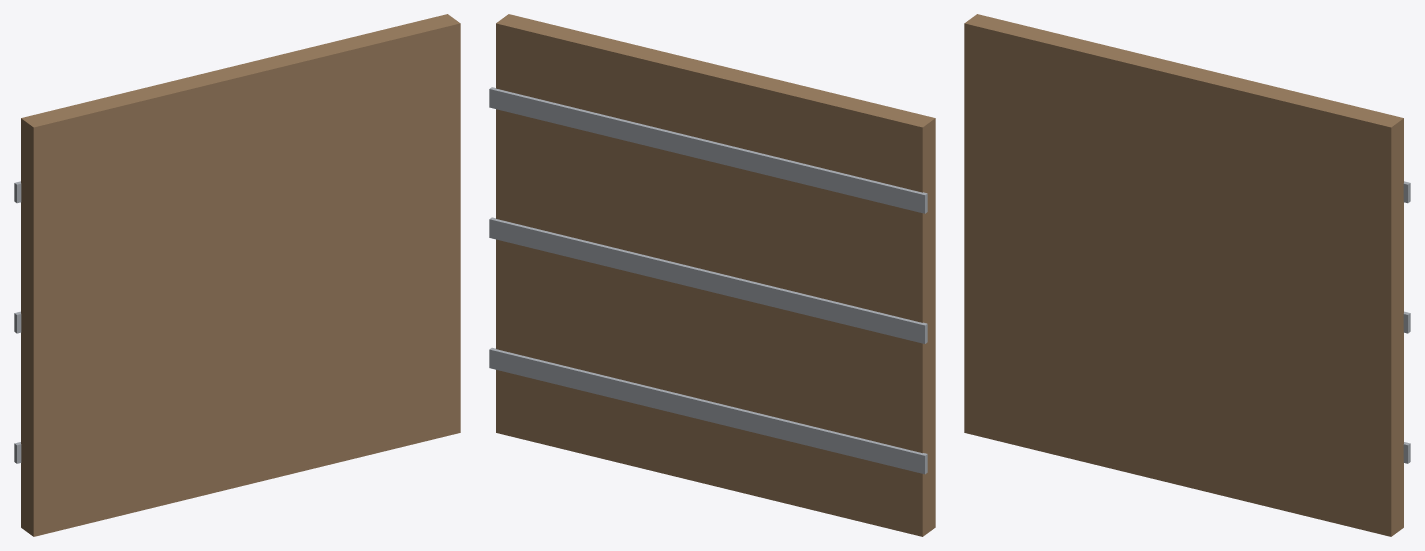
Rendered from castrum_gate.glb.
3 views of the same model, side by side, from view 1: azimuth 30°, elevation 25°; view 2: azimuth 150°, elevation 25°; view 3: azimuth 330°, elevation 25° (orthographic).
Parts seen in each view (by area): view 1: CastrumGate; view 2: CastrumGate; view 3: CastrumGate.
Boxes of the visible parts, box(x1,y1,x2,y2) form: CastrumGate: box(14, 14, 460, 536); CastrumGate: box(489, 14, 935, 536); CastrumGate: box(964, 14, 1410, 536).
Size of the model in its own units: 4.9 by 4.4 by 0.29.
